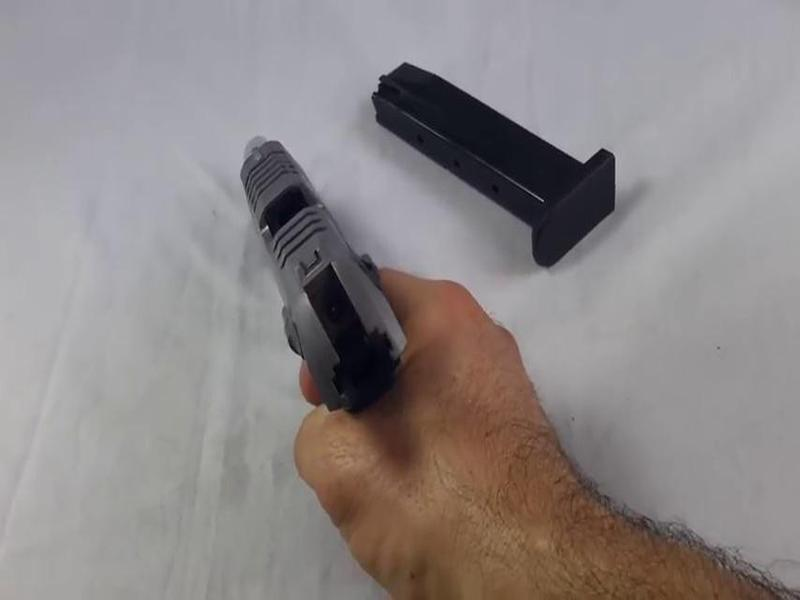Pistola: (219, 119, 454, 455)
